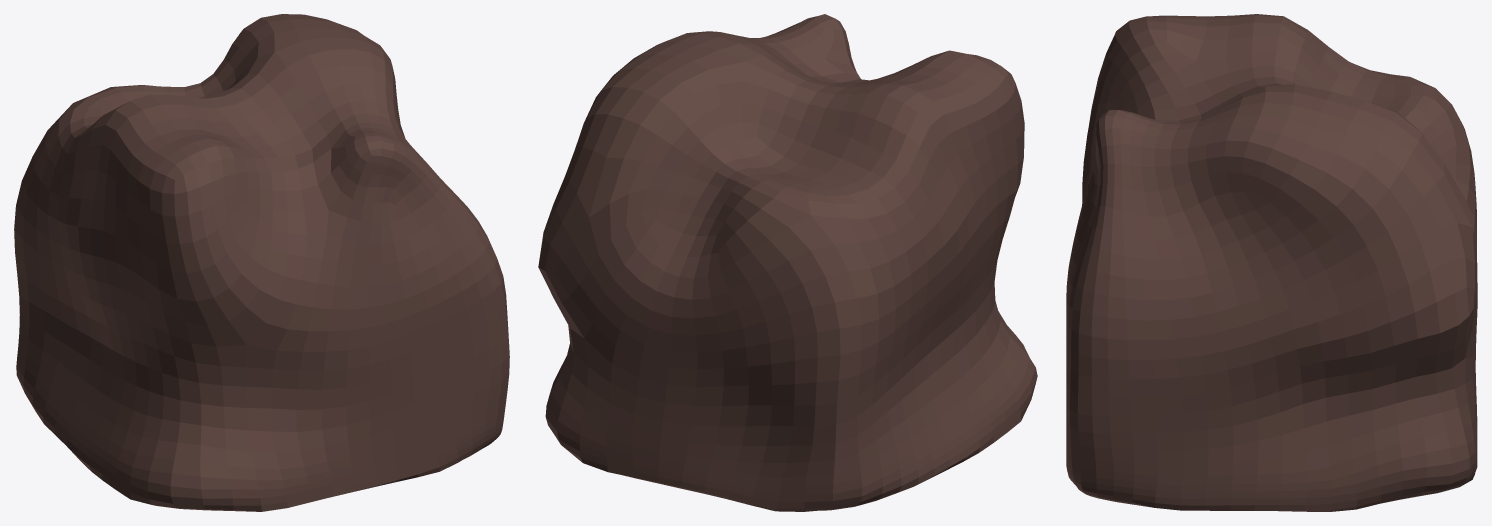
The model's file is Rock_Heavy_01.fbx.
3 renders of one model, left to right at view 1: azimuth 30°, elevation 25°; view 2: azimuth 150°, elevation 25°; view 3: azimuth 270°, elevation 25°, orthographic. The views are drawn at different scales.
Parts seen in each view (by area): view 1: Retopo_Cube; view 2: Retopo_Cube; view 3: Retopo_Cube.
Part boxes in pixels (x1,y1,x2,y2): Retopo_Cube: (14, 14, 509, 511); Retopo_Cube: (538, 14, 1037, 511); Retopo_Cube: (1066, 14, 1477, 511).
Bounding box in the file's own units: 502 × 494 × 503.
